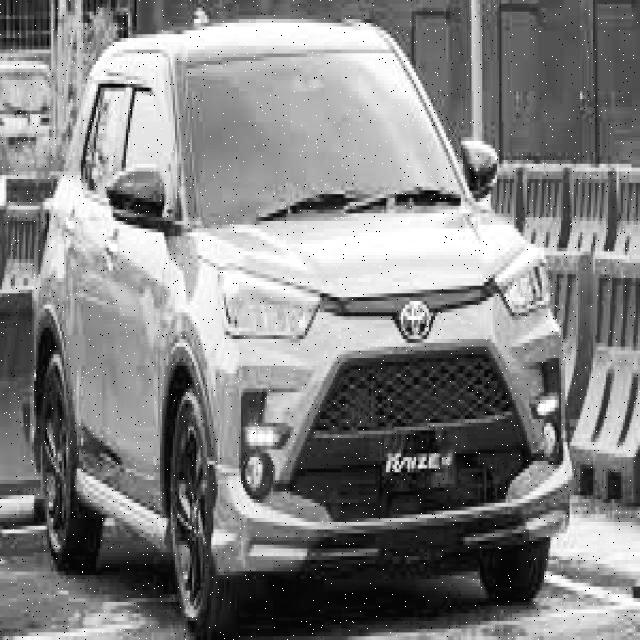Car: (22, 3, 566, 640)
